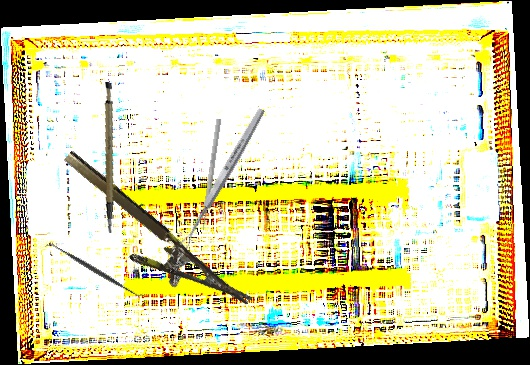Needle Holder: (42, 147, 253, 336)
Pusher: (199, 118, 223, 231)
Scalpel Handle: (82, 81, 133, 234)
Spatula Surgical: (43, 236, 145, 304)
Surgical Spoon: (178, 106, 267, 250)
